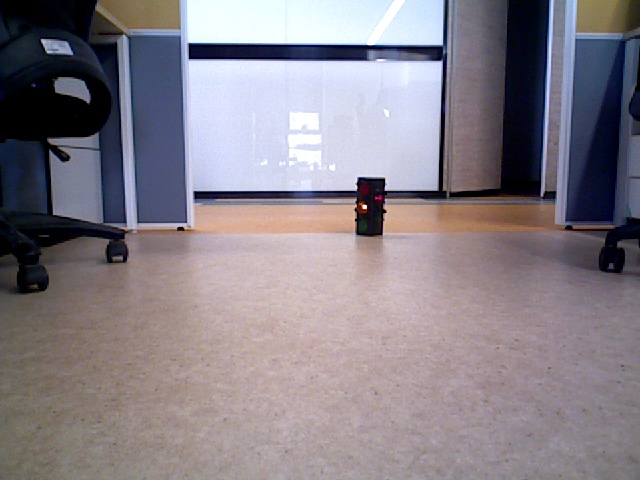yellow: (357, 177, 384, 233)
